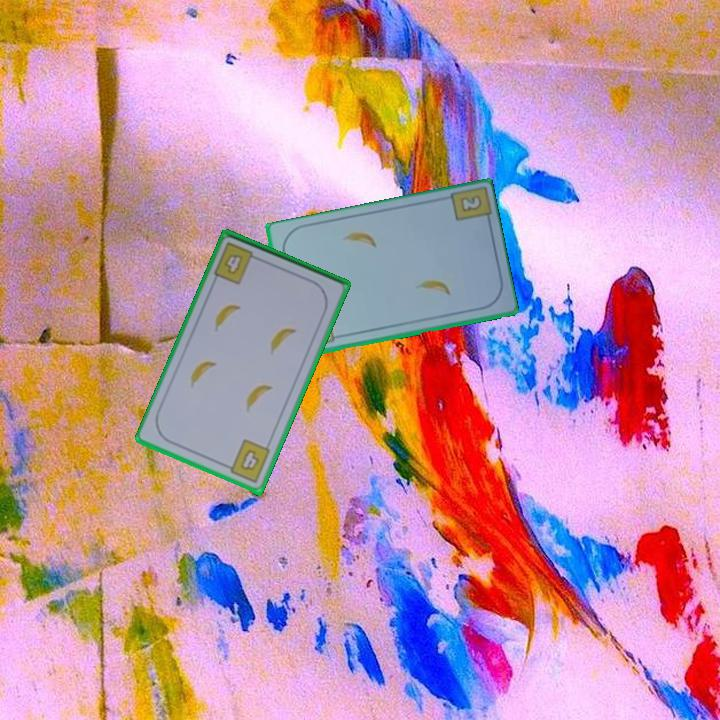2b: (456, 191, 485, 215)
4b: (221, 436, 273, 487), (221, 251, 246, 278)
